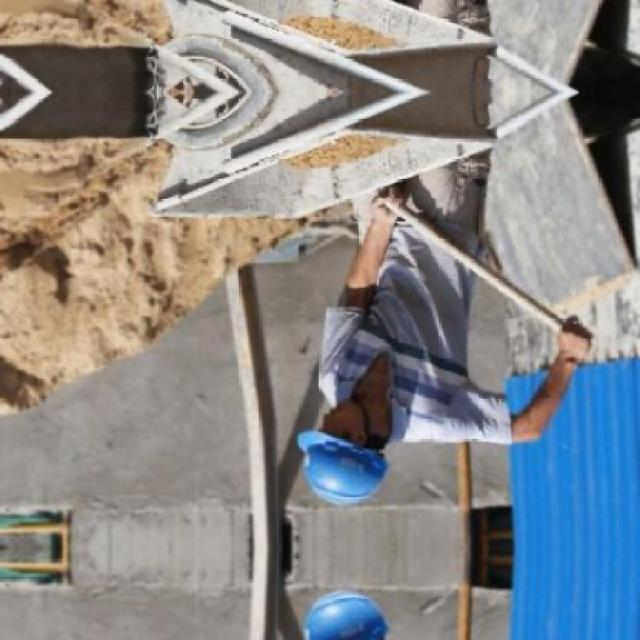con casco: (280, 379, 445, 526)
